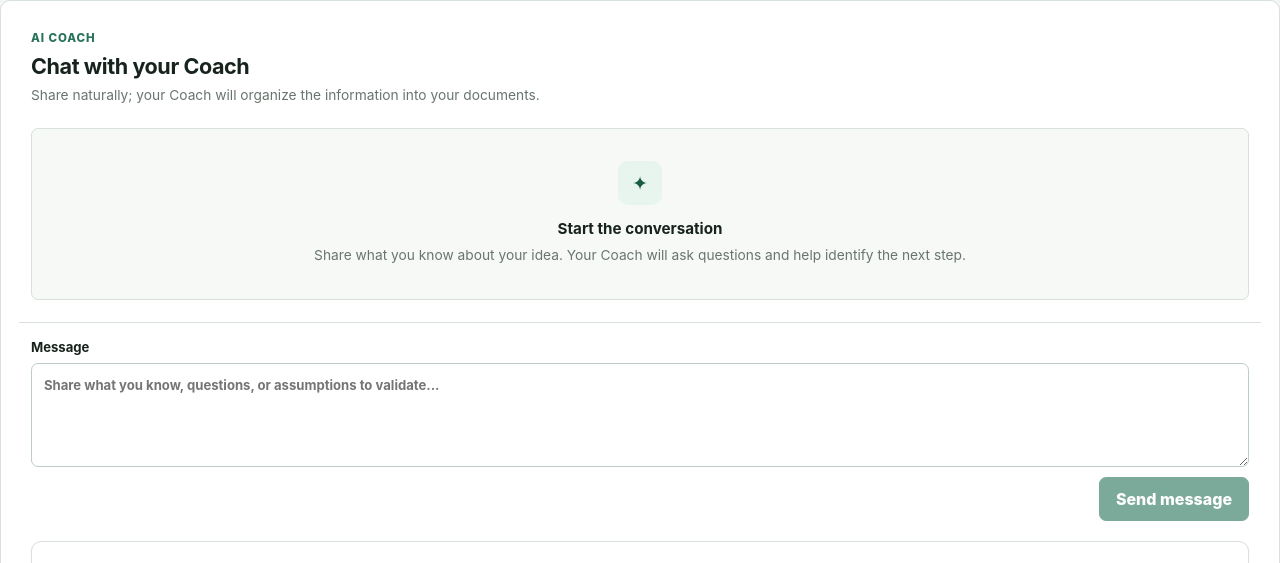
Test: ChatPanel › shows Thinking while waiting for the coach response
The width and height of the screenshot is (1280, 563).
Step 1. Type "Kiểm chứng ý tưởng" into the text box labelled "Message" → [640, 415], box top-left (31, 363), bottom-right (1249, 467)
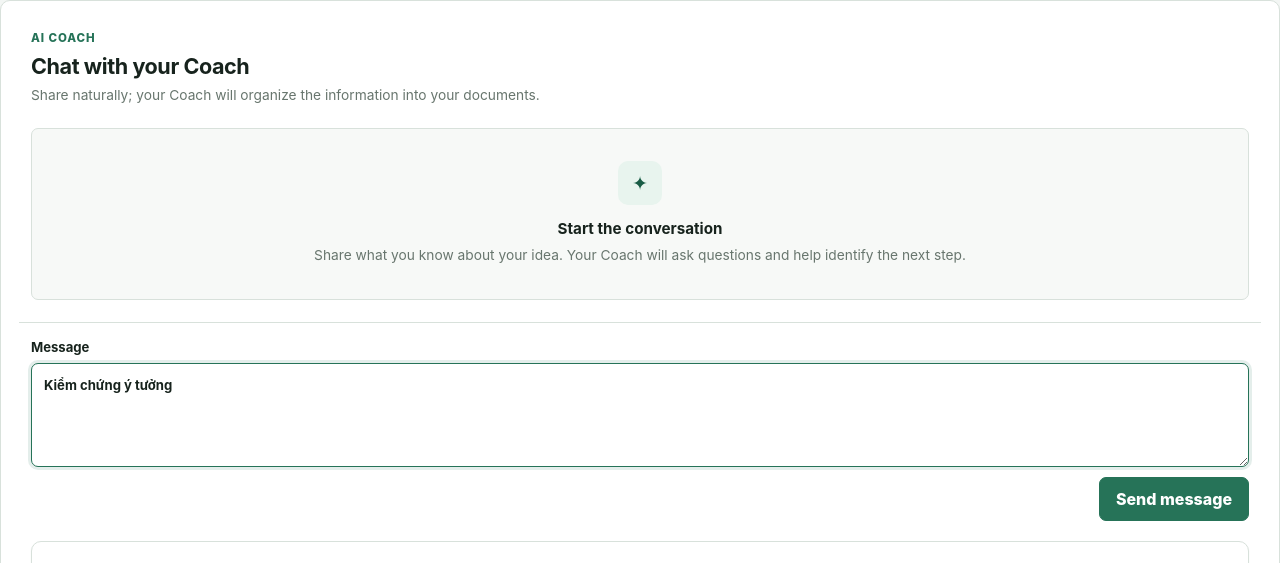
Step 2. Click the button "Send message" → [1174, 499], box top-left (1099, 477), bottom-right (1249, 521)
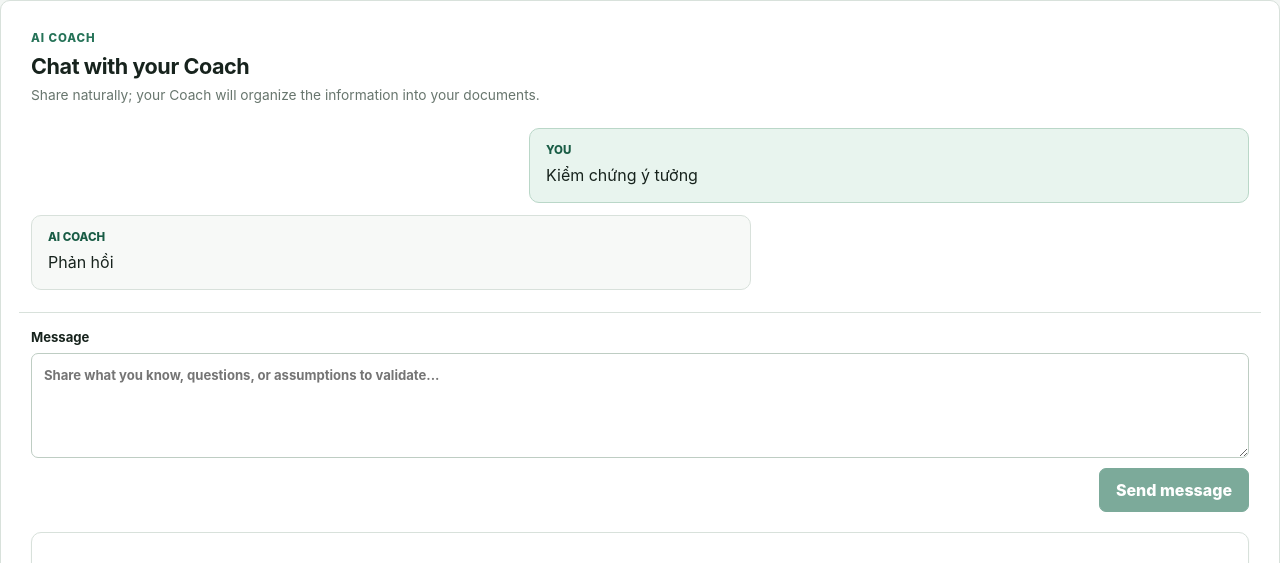
Expected: the button named "Thinking..." is disabled, top-left (1099, 468), bottom-right (1249, 512)
Expected: the button "Send message" is disabled, top-left (1099, 468), bottom-right (1249, 512)
